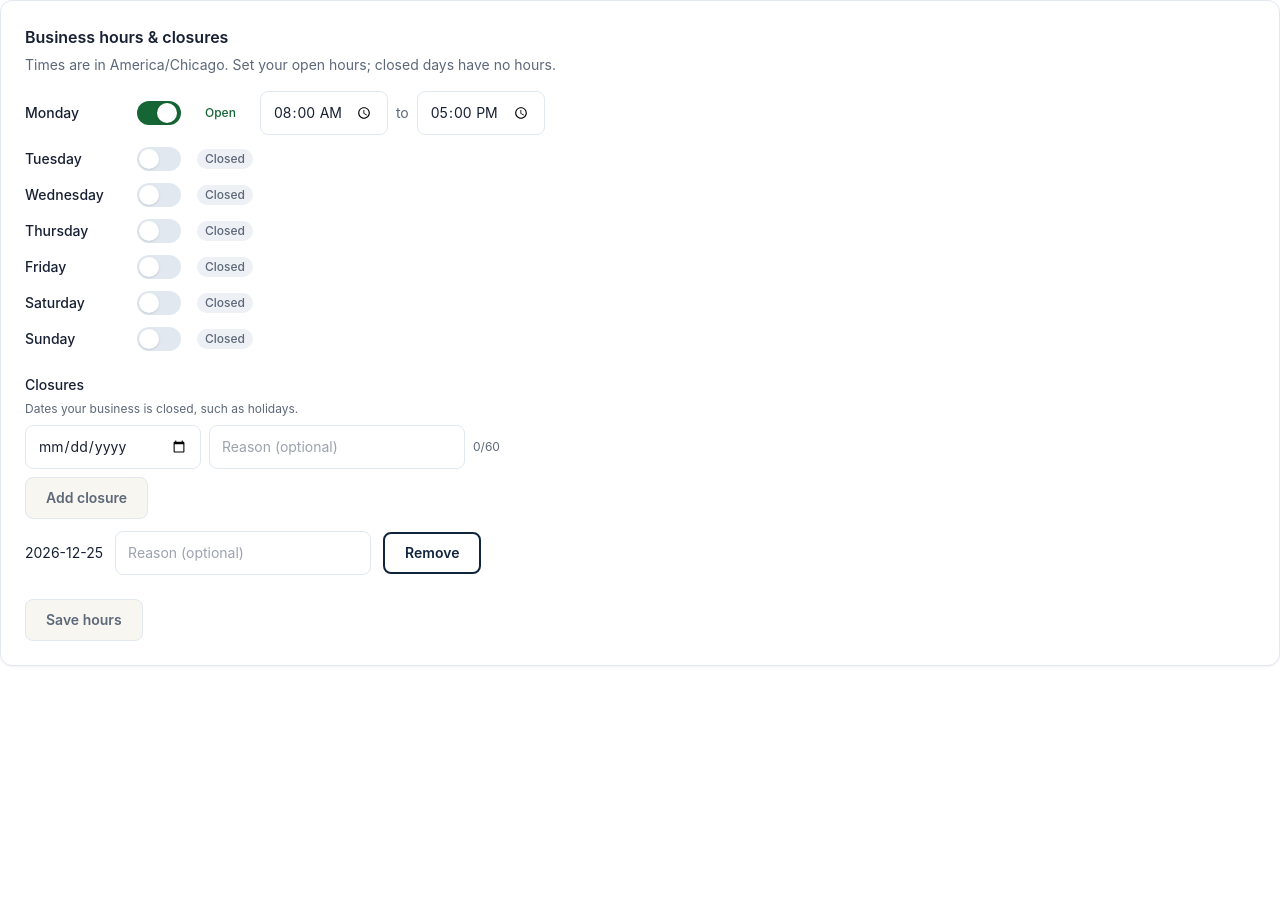
Test: CalendarSection › maps KeepResponsePolicy.LastWeeklyIntervalRequired to friendly copy, never the generic API message
Click the switch named "Open on Tuesday".
click(159, 159)  # box [137,147,181,171]
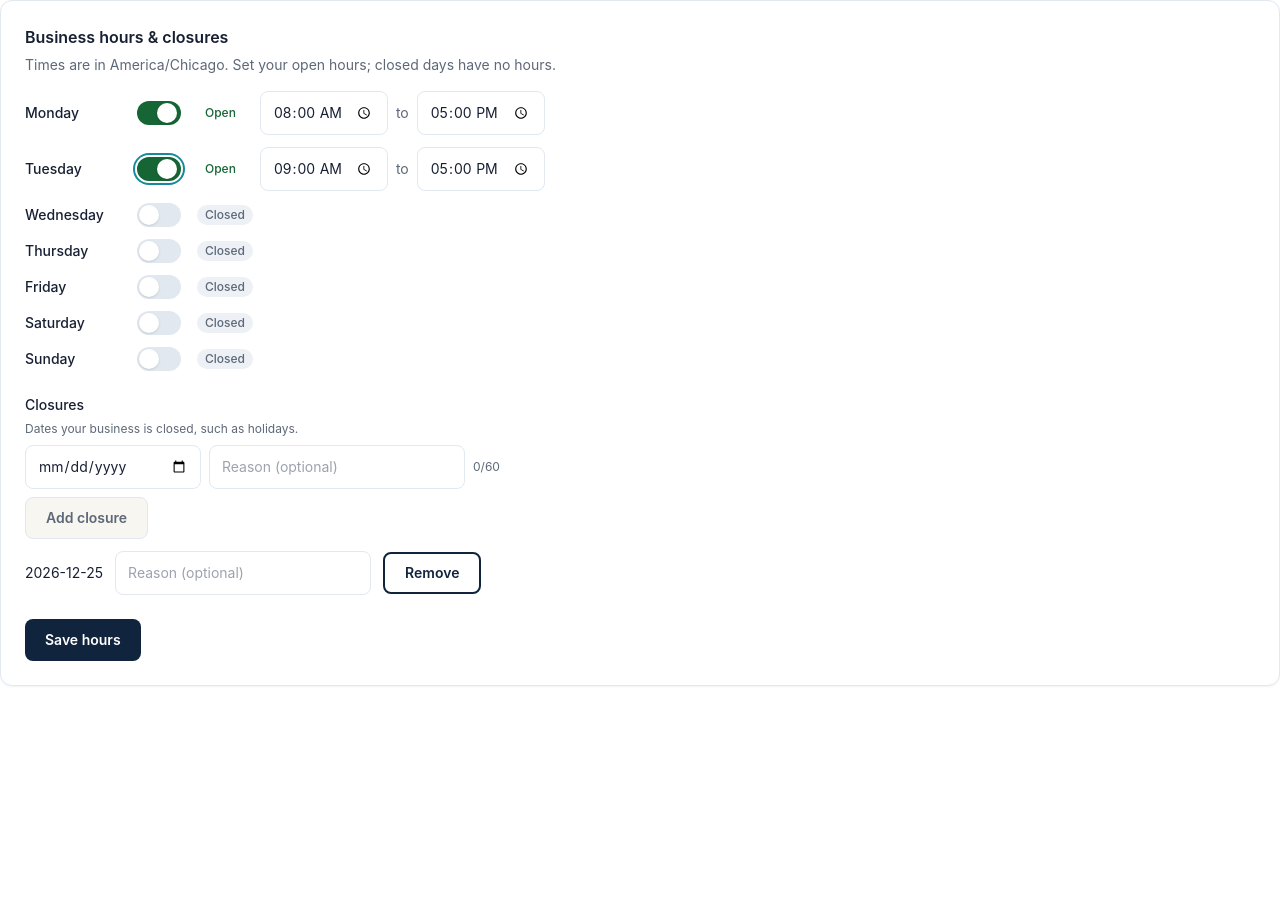
Click the button "Save hours".
click(83, 640)  # box [25,619,141,661]
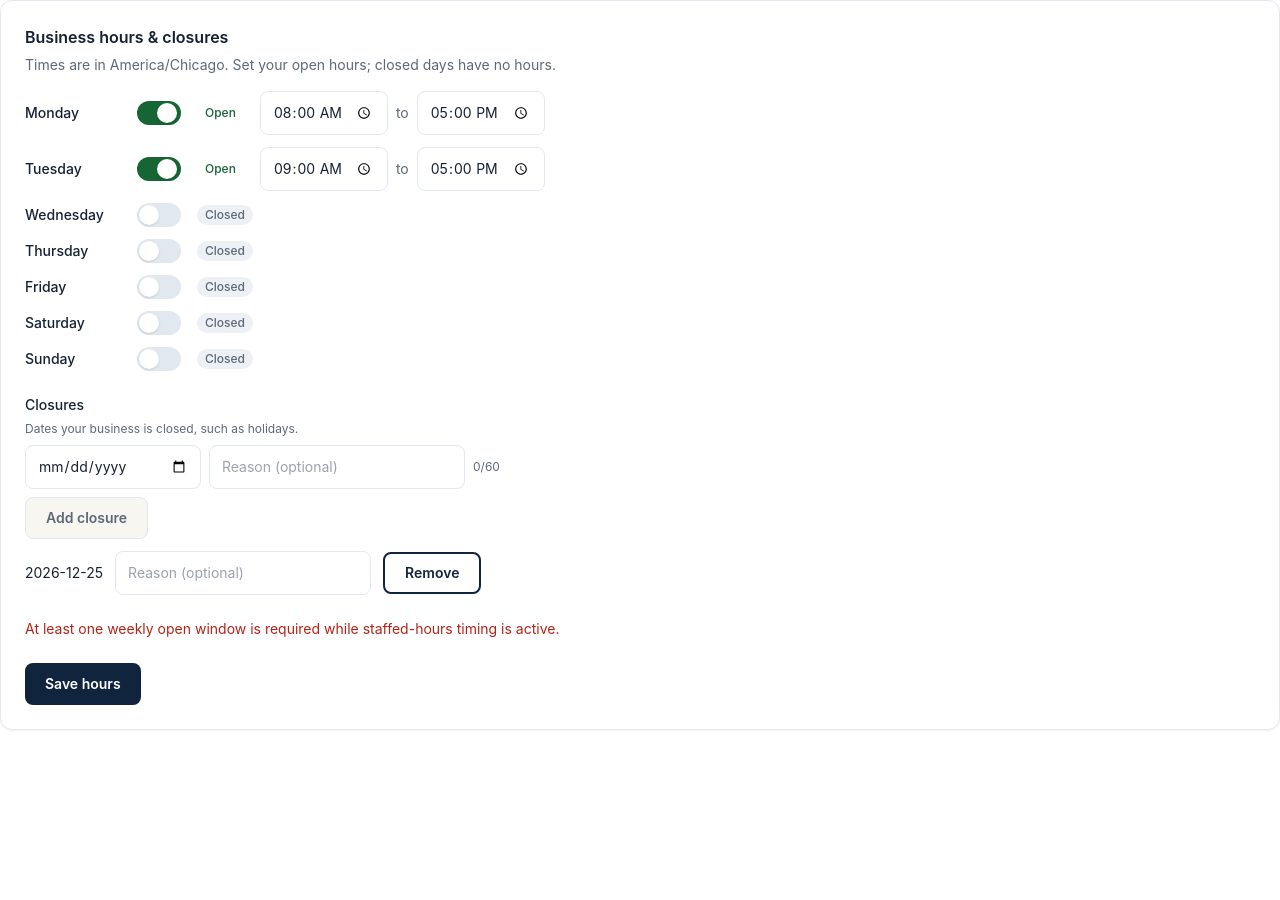
Expected: the text "At least one weekly open window is required while staffed-hours timing is active." is shown, [25,620,560,637]
